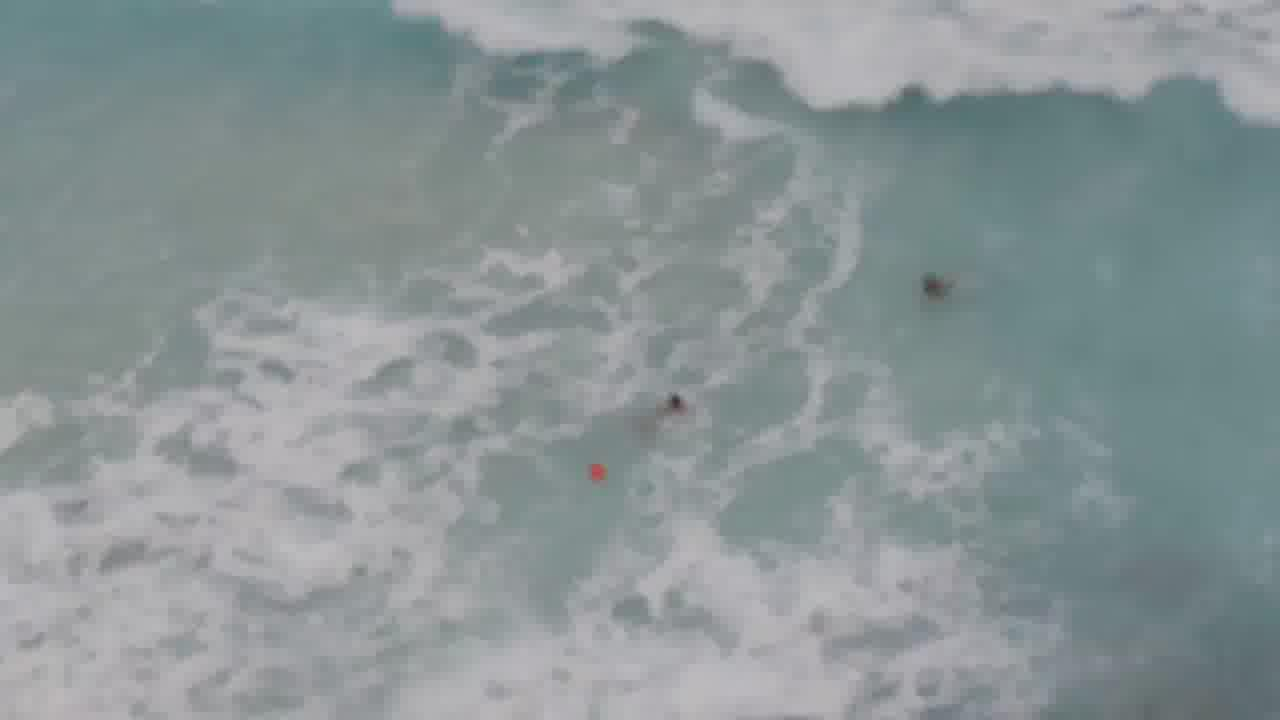human: (905, 260, 965, 296), (655, 381, 700, 421)
